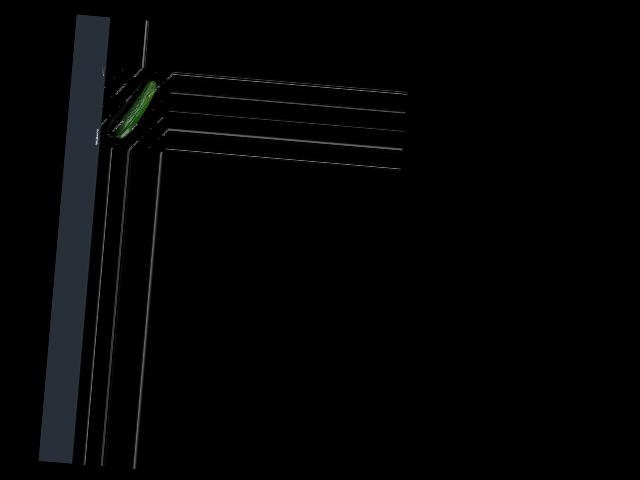cucumber: (113, 77, 156, 141)
